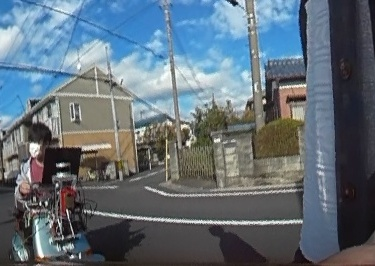person: (15, 124, 68, 207)
